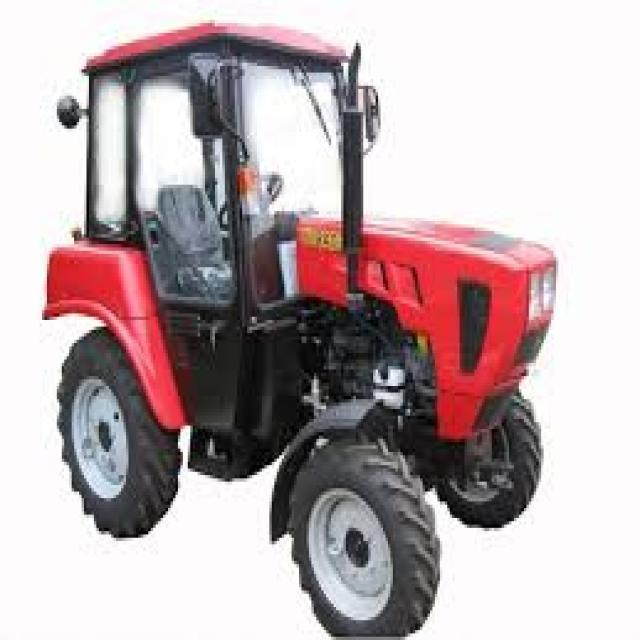Tratores - v5 YOLO V8L 2024-11-13: (42, 22, 556, 640)
